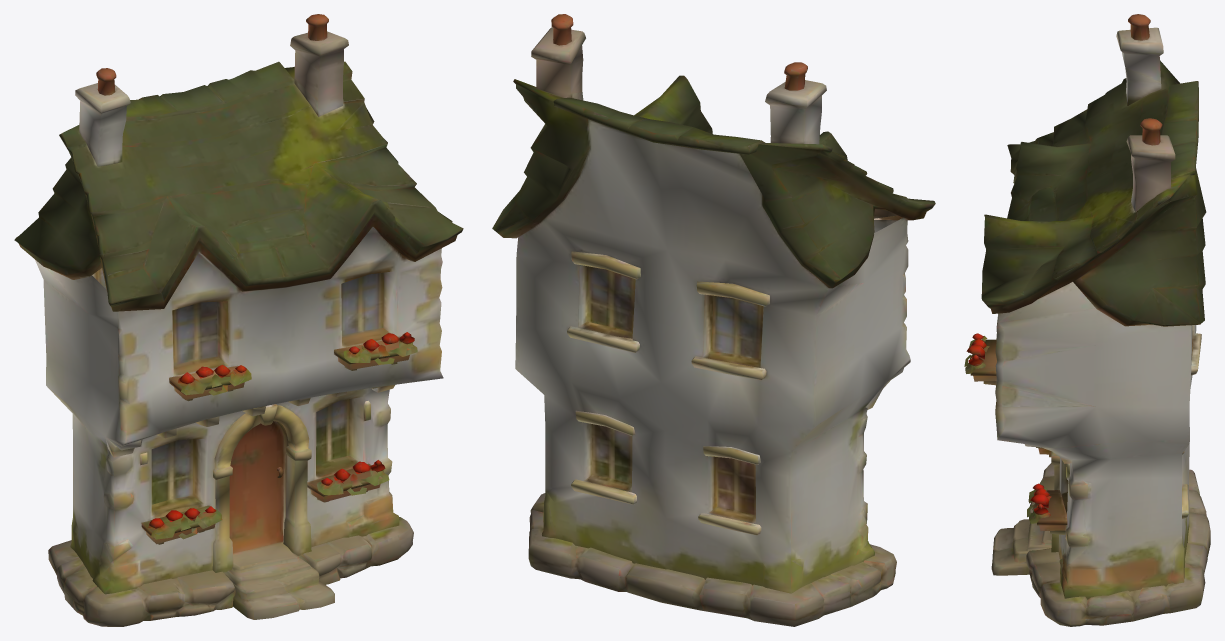
Rendered from house_townhouse_green.glb.
The picture shows the model from 3 angles, left to right: view 1: azimuth 30°, elevation 25°; view 2: azimuth 150°, elevation 25°; view 3: azimuth 270°, elevation 25°; orthographic projection. The views are drawn at different scales.
Parts seen in each view (by area): view 1: tripo_node_522676c7-7913-4cc3-a164-8c9f29cdf78c; view 2: tripo_node_522676c7-7913-4cc3-a164-8c9f29cdf78c; view 3: tripo_node_522676c7-7913-4cc3-a164-8c9f29cdf78c.
Part boxes in pixels (<box>): tripo_node_522676c7-7913-4cc3-a164-8c9f29cdf78c: <box>14,14,463,626</box>; tripo_node_522676c7-7913-4cc3-a164-8c9f29cdf78c: <box>492,14,935,626</box>; tripo_node_522676c7-7913-4cc3-a164-8c9f29cdf78c: <box>964,14,1210,626</box>.
Bounding box in the file's own units: 6.33 × 9 × 4.11.
Materials: 1 (1 with a texture image).
